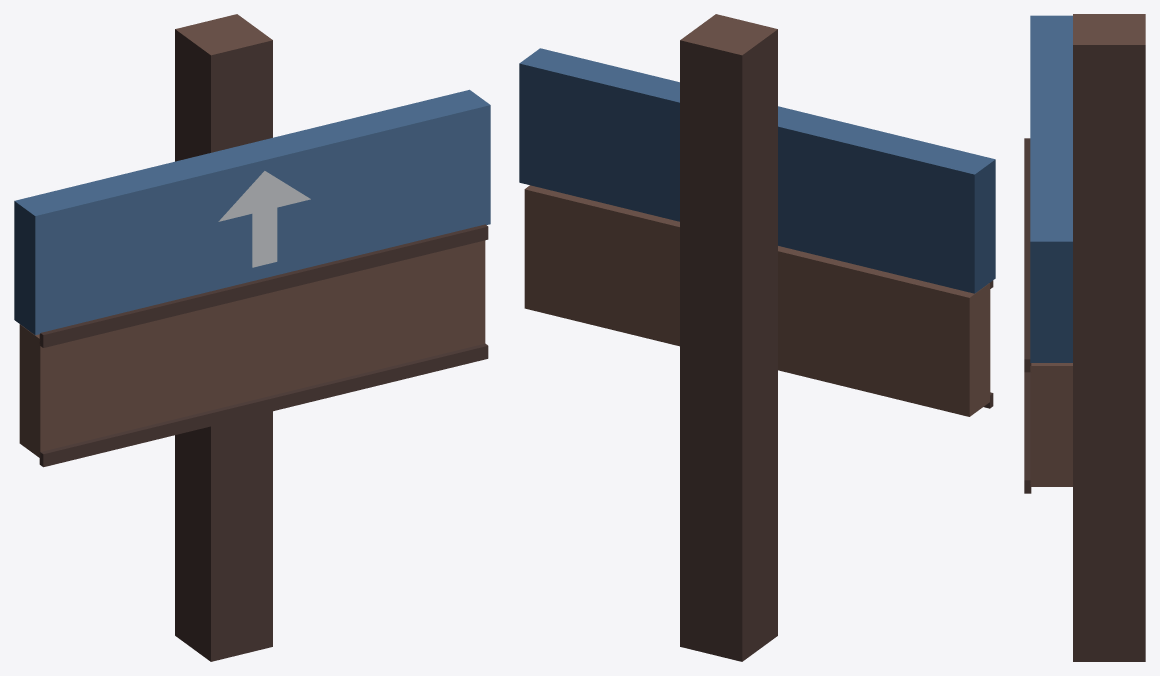
The model's file is sign_blue.fbx.
3 renders of one model, left to right at view 1: azimuth 30°, elevation 25°; view 2: azimuth 150°, elevation 25°; view 3: azimuth 270°, elevation 25°, orthographic.
Visible parts, largest first — view 1: sign_blue; view 2: sign_blue; view 3: sign_blue.
Part boxes in pixels (x1,y1,x2,y2): sign_blue: (14,14,490,661); sign_blue: (519,14,995,661); sign_blue: (1024,14,1145,661).
Size of the model in its own units: 0.44 by 0.56 by 0.1.
